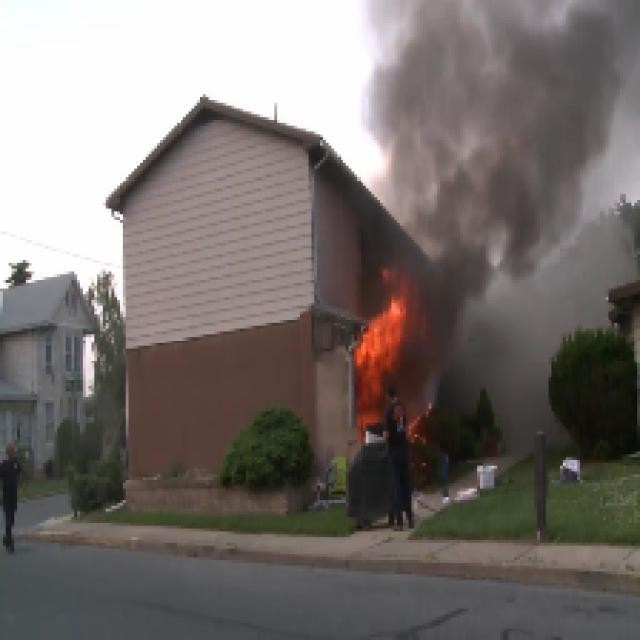Fire: (352, 257, 457, 489)
Smoke: (365, 0, 640, 274), (460, 89, 634, 448)
